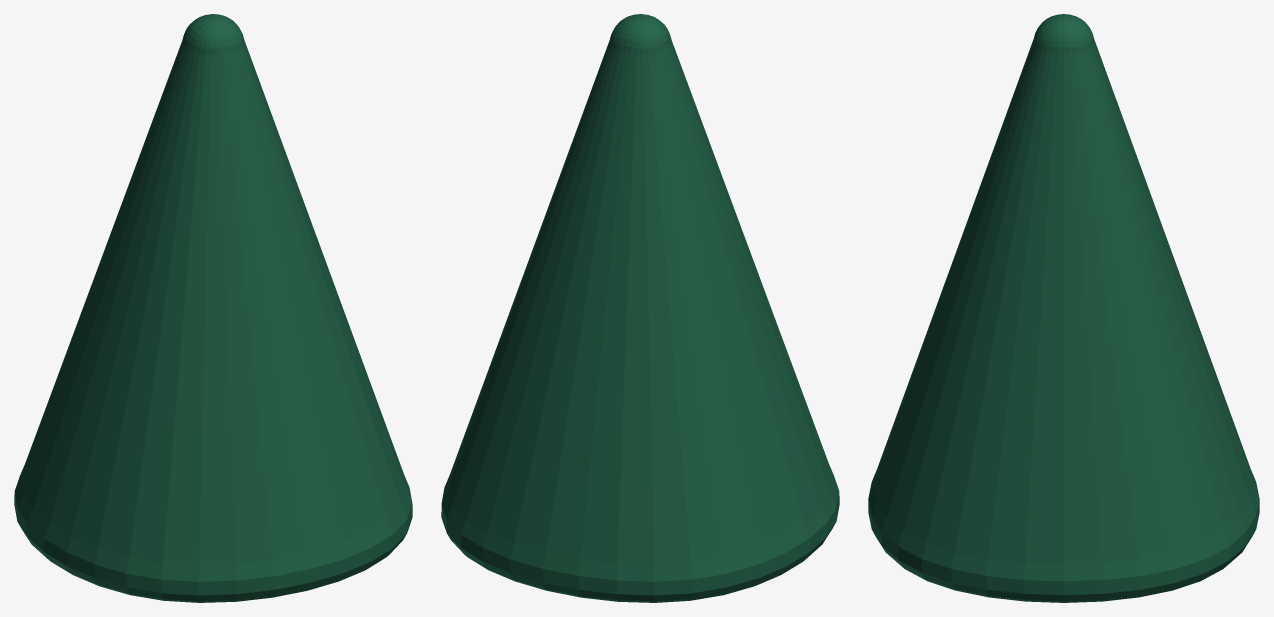
Rendered from Tree5.fbx.
3 renders of one model, left to right at view 1: azimuth 30°, elevation 25°; view 2: azimuth 150°, elevation 25°; view 3: azimuth 270°, elevation 25°, orthographic.
Parts seen in each view (by area): view 1: Tree5; view 2: Tree5; view 3: Tree5.
Part boxes in pixels (box(x1,y1,x2,y2)): Tree5: box(14, 14, 412, 602); Tree5: box(441, 14, 839, 602); Tree5: box(868, 14, 1259, 602).
Size of the model in its own units: 0.0215 by 0.0309 by 0.0215.
